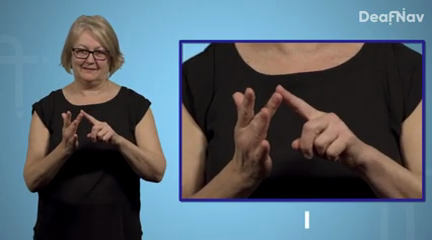I: (57, 106, 127, 156)
